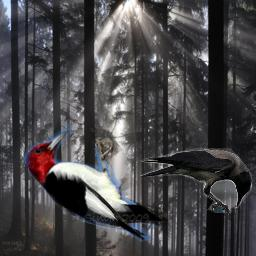Crow: (139, 148, 252, 213)
Woodpecker: (9, 123, 175, 248)
